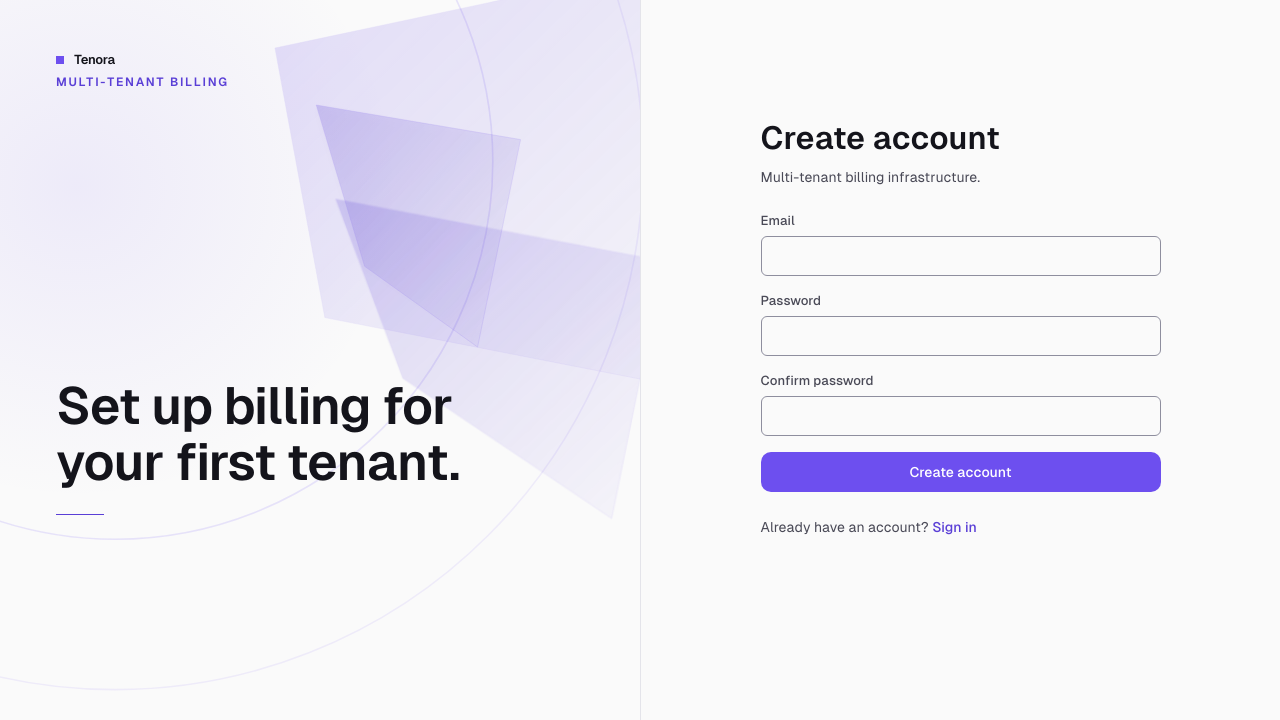
Scenario: RegisterPage › renders the backend field error for a duplicate email inline
Expected: the heading "Create account" is shown, x1=760 y1=120 x2=1000 y2=156
Step 1. Type "new@example.com" into the field labelled "Email" → coordinates (960, 256), box x1=760 y1=236 x2=1160 y2=276
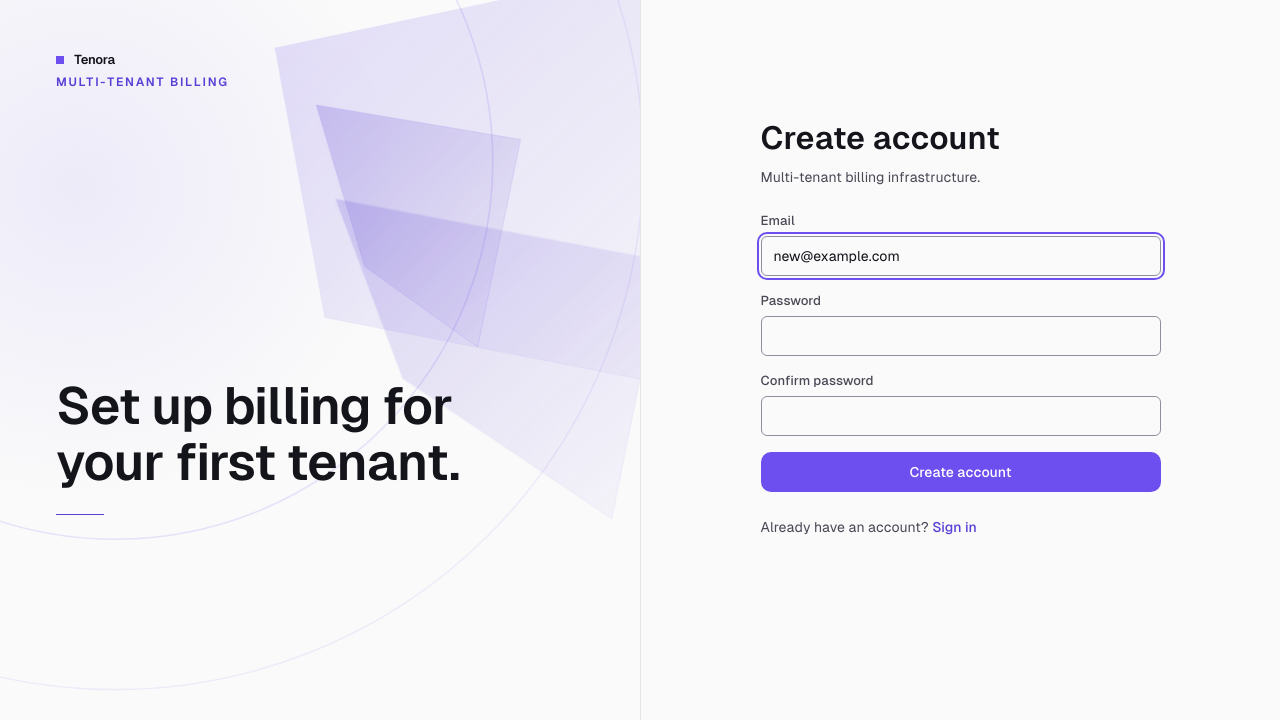
Step 2. Type "correct-horse-staple-42" into the password field labelled "Password" → coordinates (960, 336), box x1=760 y1=316 x2=1160 y2=356
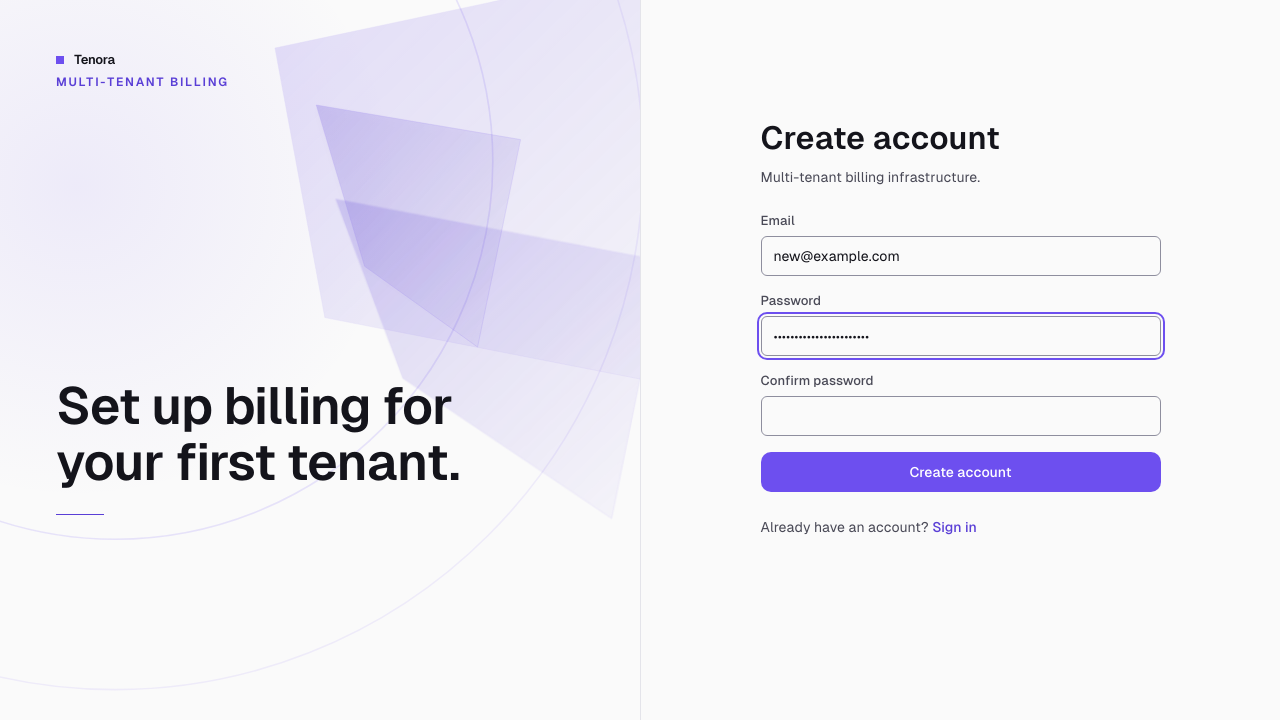
Step 3. Type "correct-horse-staple-42" into the password field labelled "Confirm password" → coordinates (960, 416), box x1=760 y1=396 x2=1160 y2=436
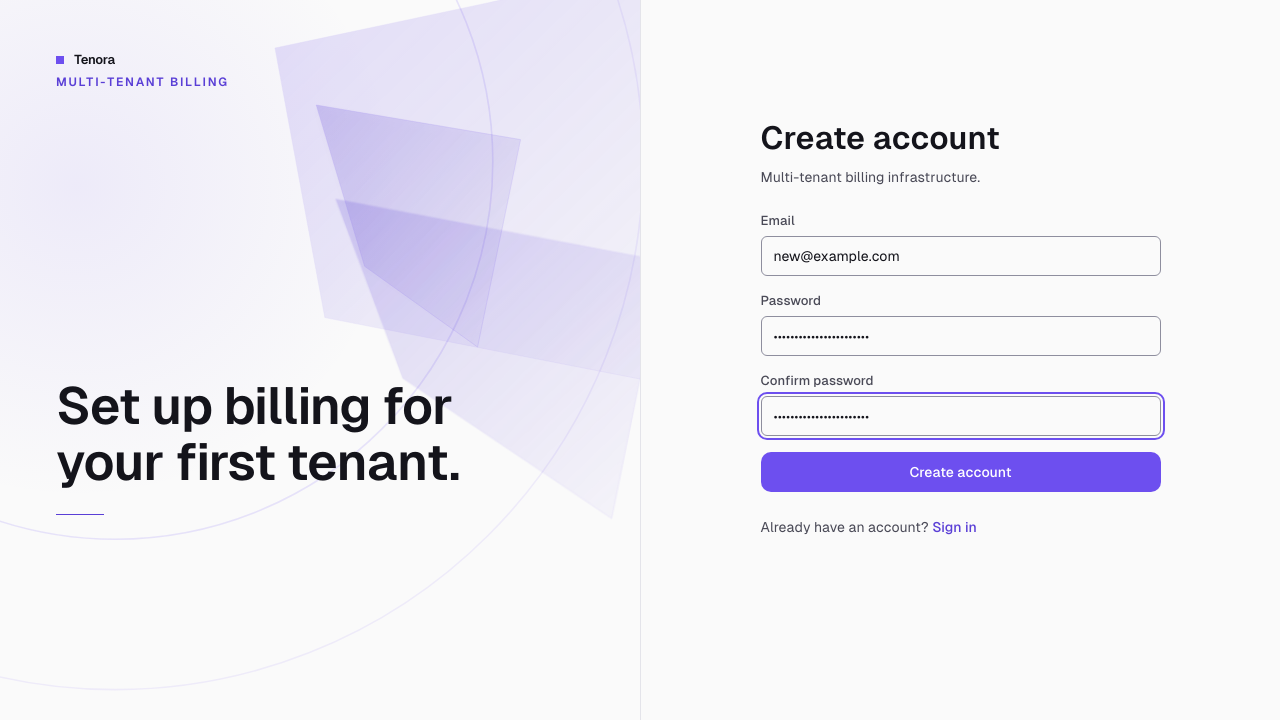
Step 4. Click the button "Create account" → coordinates (960, 472), box x1=760 y1=452 x2=1160 y2=492
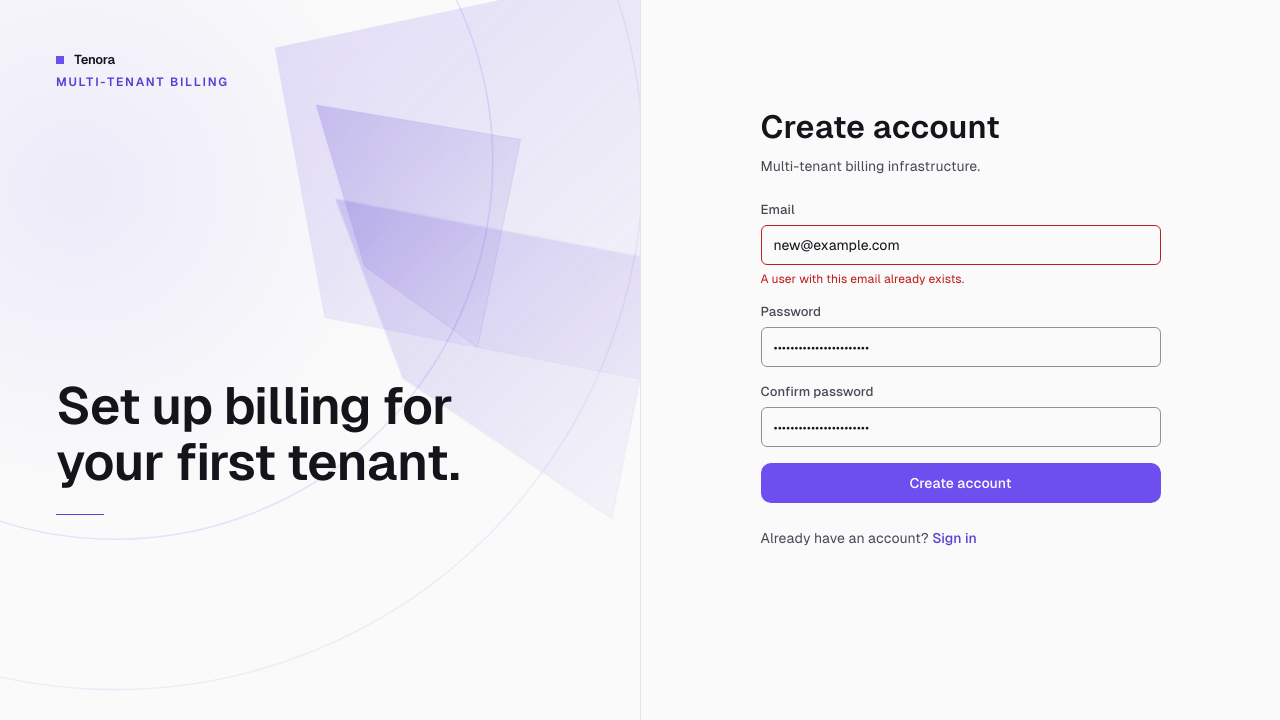
Now the text "A user with this email already exists." is shown, box x1=760 y1=272 x2=964 y2=286
